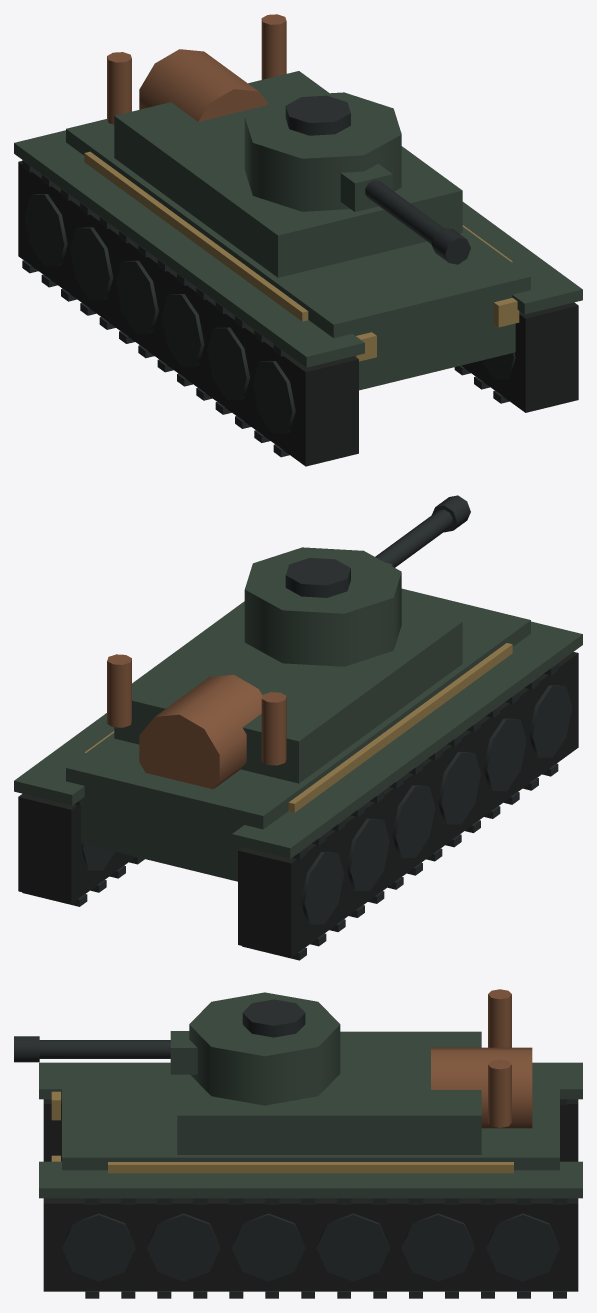
Rendered from tank.glb.
3 renders of one model, top to bottom at view 1: azimuth 30°, elevation 25°; view 2: azimuth 150°, elevation 25°; view 3: azimuth 270°, elevation 25°, orthographic. The views are drawn at different scales.
Visible parts, largest first — view 1: body, turret_and_cannon; view 2: body, turret_and_cannon; view 3: body, turret_and_cannon.
Part boxes in pixels (x1=…): body: x1=14, y1=14, x2=582, y2=466; turret_and_cannon: x1=244, y1=92, x2=470, y2=264; body: x1=14, y1=588, x2=582, y2=960; turret_and_cannon: x1=244, y1=495, x2=470, y2=666; body: x1=39, y1=989, x2=582, y2=1298; turret_and_cannon: x1=14, y1=992, x2=340, y2=1105.
Bounding box in the file's own units: 3.26 × 2.67 × 6.17.
